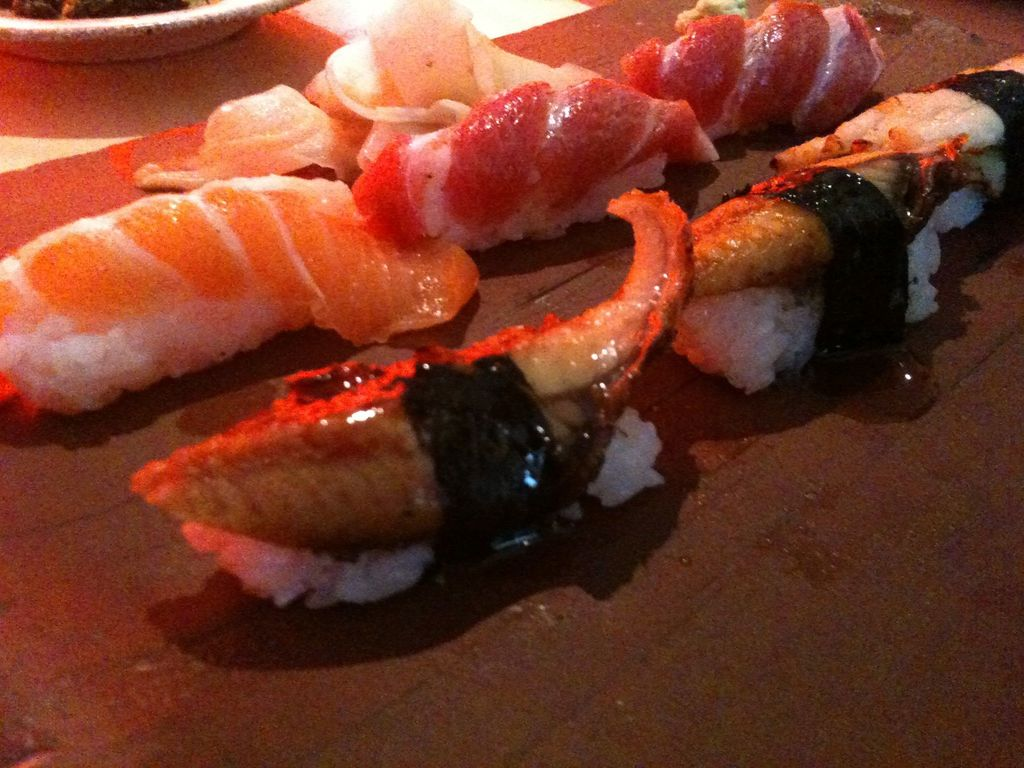sushi: (0, 0, 1023, 607), (669, 124, 987, 404)
